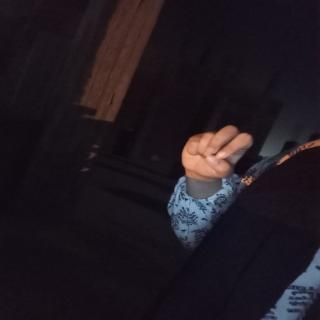QAAF: (174, 125, 262, 189)
